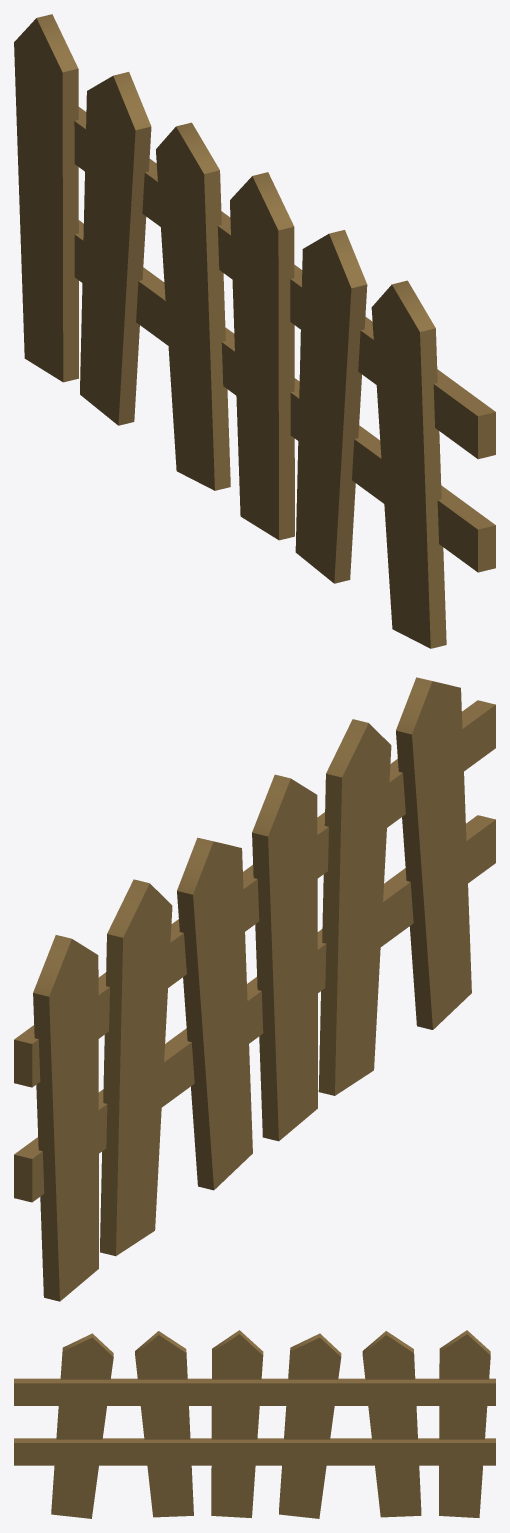
Rendered from Fence.fbx.
3 renders of one model, top to bottom at view 1: azimuth 30°, elevation 25°; view 2: azimuth 150°, elevation 25°; view 3: azimuth 270°, elevation 25°, orthographic. The views are drawn at different scales.
Visible parts, largest first — view 1: polySurface61; view 2: polySurface61; view 3: polySurface61.
Boxes of the visible parts, x1,y1,x2,y2 form: polySurface61: [14, 14, 495, 648]; polySurface61: [14, 677, 495, 1301]; polySurface61: [14, 1330, 495, 1518].
Size of the model in its own units: 4.69 by 52.85 by 125.
